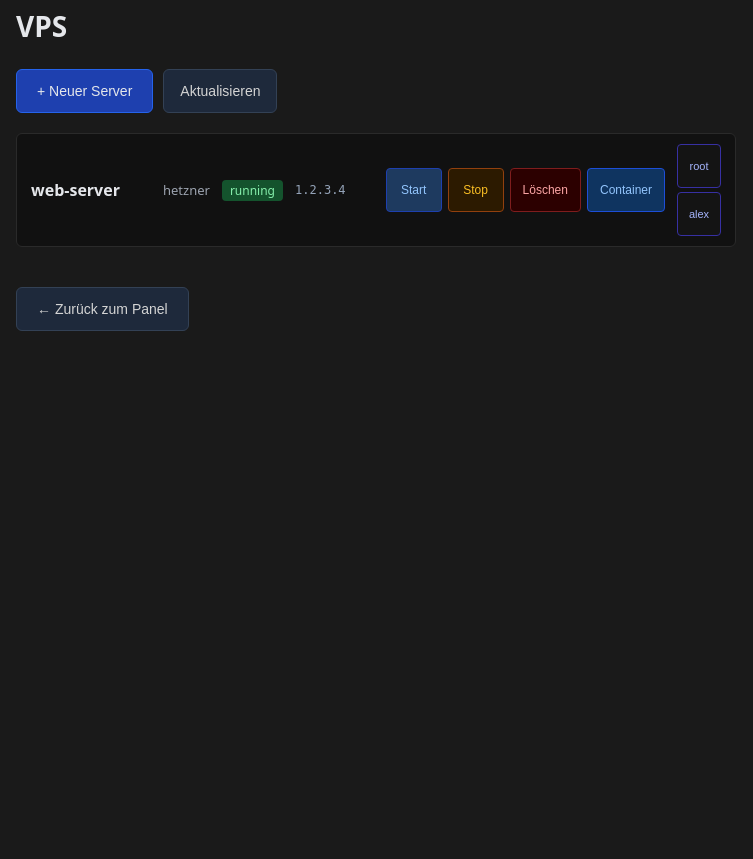
Test: VpsContainerOverview — AC2/AC14: Zustand-Textbadge › laufender Container zeigt Badge "läuft", gestoppter Container Badge "gestoppt" (bedingungslos, kein Filter)
Click the button "Container" at (626,190), box [587,168,665,212]
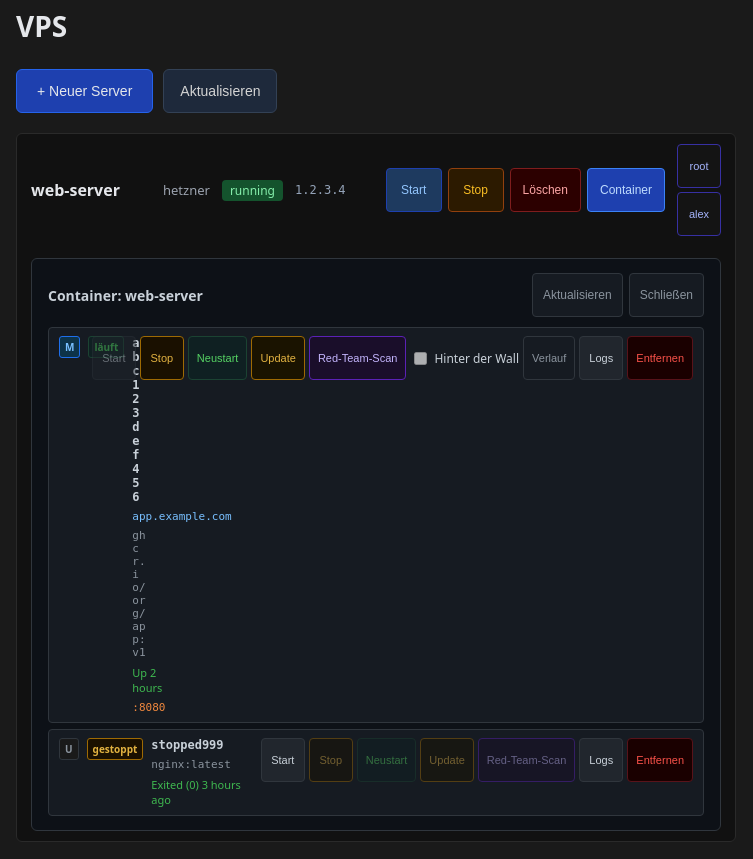
Expected: the text "läuft" is shown, [88,336,124,358]
Expected: the text "gestoppt" is shown, [87,738,143,760]
